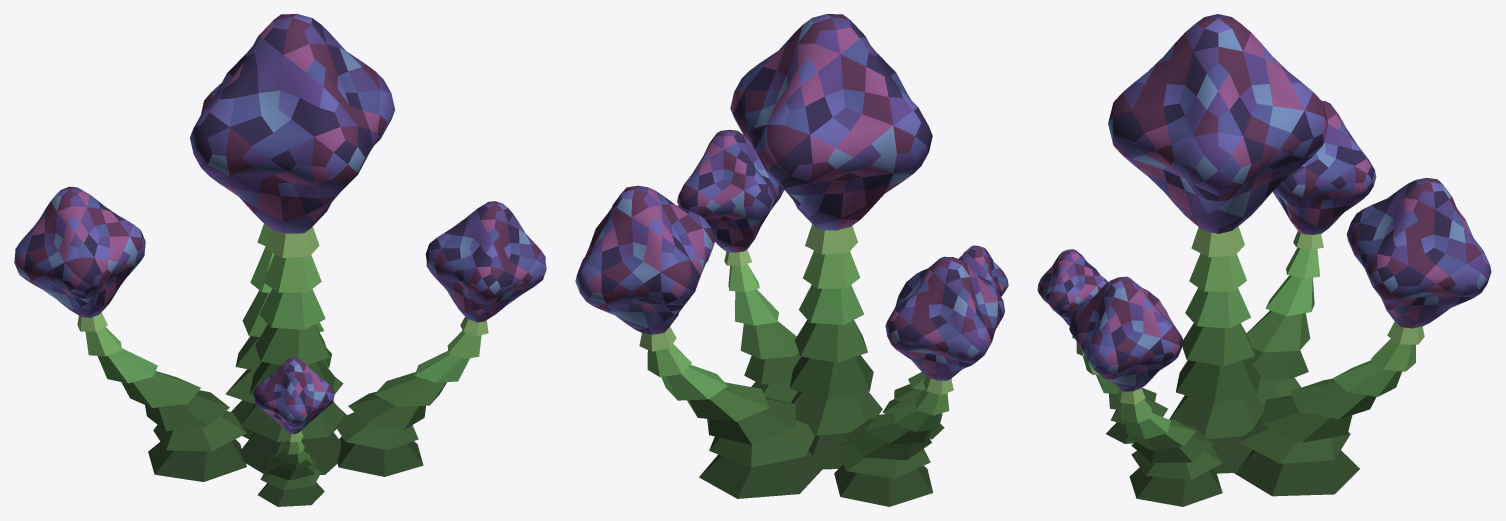
File: wp_noPot_24.fbx
3 renders of one model, left to right at view 1: azimuth 30°, elevation 25°; view 2: azimuth 150°, elevation 25°; view 3: azimuth 270°, elevation 25°, orthographic.
Visible parts, largest first — view 1: w_pl24.003; view 2: w_pl24.003; view 3: w_pl24.003.
Boxes of the visible parts, <box> form: w_pl24.003: <box>14,14,546,506</box>; w_pl24.003: <box>575,14,1008,506</box>; w_pl24.003: <box>1037,14,1491,506</box>.
Bounding box in the file's own units: 129 × 132 × 124.
